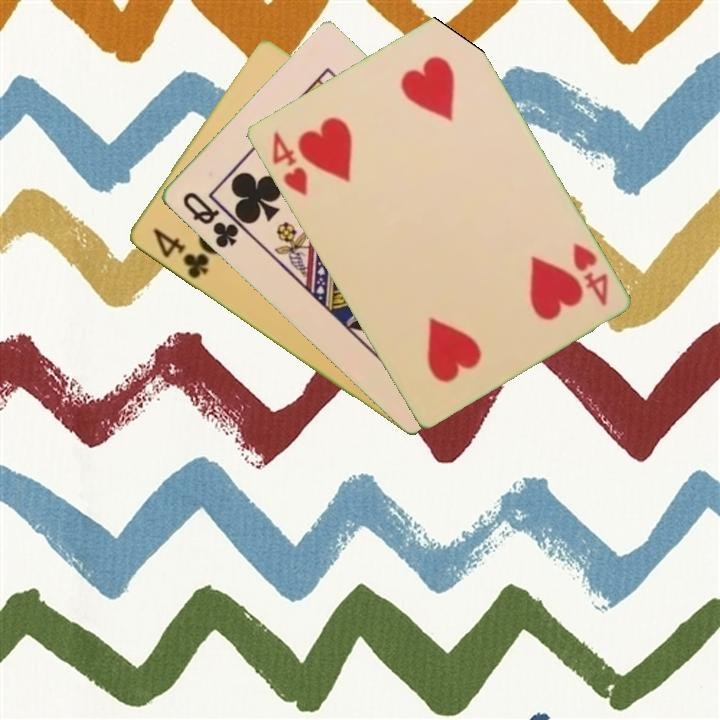4c: (148, 224, 212, 282)
4h: (568, 238, 611, 309), (268, 128, 310, 199)
Qc: (178, 188, 241, 252)
